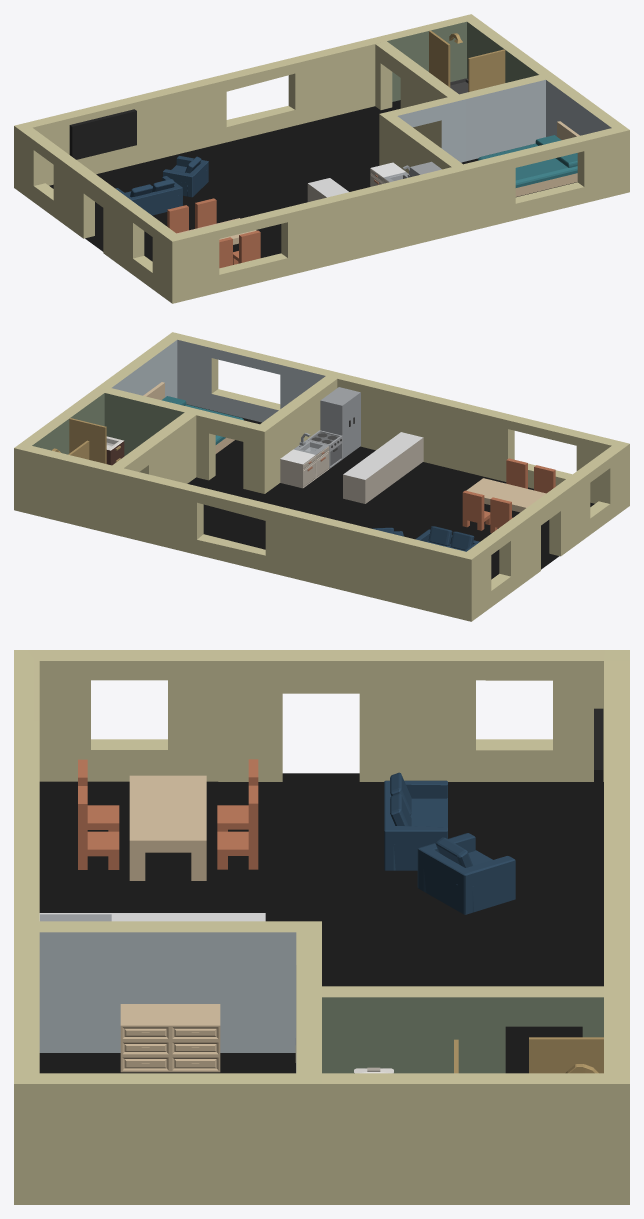
The model's file is Casa.fbx.
3 renders of one model, top to bottom at view 1: azimuth 30°, elevation 25°; view 2: azimuth 150°, elevation 25°; view 3: azimuth 270°, elevation 25°, orthographic. The views are drawn at different scales.
Parts seen in each view (by area): view 1: CasaEstructura, Plano, Sofa, Cubo, Bañera, Colchón, Cama, Silla4, Silla2, Silla1, Encimera2; view 2: CasaEstructura, Plano, Nevera, Encimera, Bañera, Encimera2, Mesa, Mueble, Sofa, Silla2, Silla1, Silla4 (+1 smaller); view 3: CasaEstructura, Plano, Sofa, Mesa, Comoda, Bañera, Silla2, Silla4, Encimera2, Cubo, Silla1, Silla3.
Boxes of the visible parts, box(x1,y1,x2,y2) form: CasaEstructura: box(14, 14, 629, 303); Plano: box(49, 100, 577, 263); Sofa: box(115, 155, 208, 215); Cubo: box(69, 109, 136, 159); Bañera: box(429, 30, 505, 91); Colchón: box(477, 143, 577, 187); Cama: box(515, 121, 579, 196); Silla4: box(233, 230, 260, 264); Silla2: box(195, 198, 216, 228); Silla1: box(167, 205, 188, 233); Encimera2: box(308, 178, 348, 197); CasaEstructura: box(14, 332, 629, 621); Plano: box(187, 404, 594, 579); Nevera: box(320, 387, 360, 458); Encimera: box(343, 437, 423, 503); Bañera: box(68, 418, 106, 463); Encimera2: box(343, 432, 423, 479); Mesa: box(466, 478, 546, 512); Mueble: box(280, 446, 329, 488); Sofa: box(372, 526, 479, 551); Silla2: box(462, 490, 490, 530); Silla1: box(490, 497, 512, 533); Silla4: box(506, 458, 527, 488); CasaEstructura: box(14, 650, 629, 1204); Plano: box(39, 773, 603, 1073); Sofa: box(384, 772, 515, 914); Mesa: box(129, 775, 206, 880); Comoda: box(120, 1004, 220, 1072); Bañera: box(454, 1037, 603, 1073); Silla2: box(217, 785, 258, 869); Silla4: box(78, 786, 119, 869); Encimera2: box(39, 913, 265, 921); Cubo: box(594, 708, 603, 836); Silla1: box(217, 759, 258, 831); Silla3: box(78, 759, 119, 831).
Bounding box in the file's own units: 4000 × 523 × 2400.
